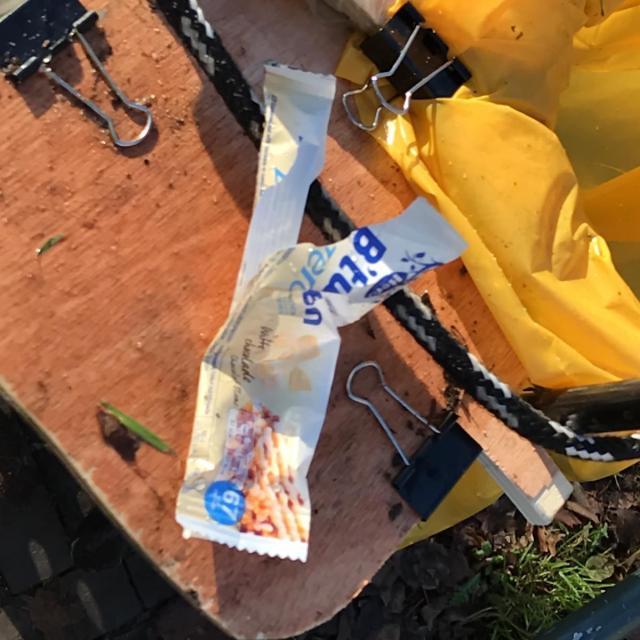Plastic: (173, 59, 472, 568)
